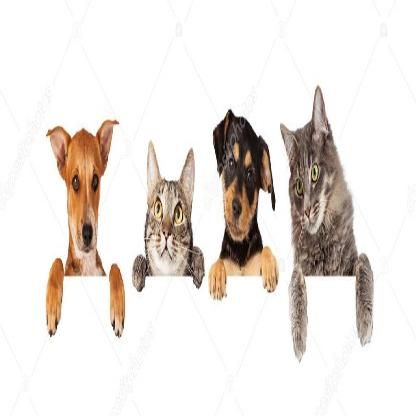cat: (281, 103, 362, 243), (134, 122, 202, 284)
dog: (42, 110, 120, 268), (210, 111, 276, 269)
